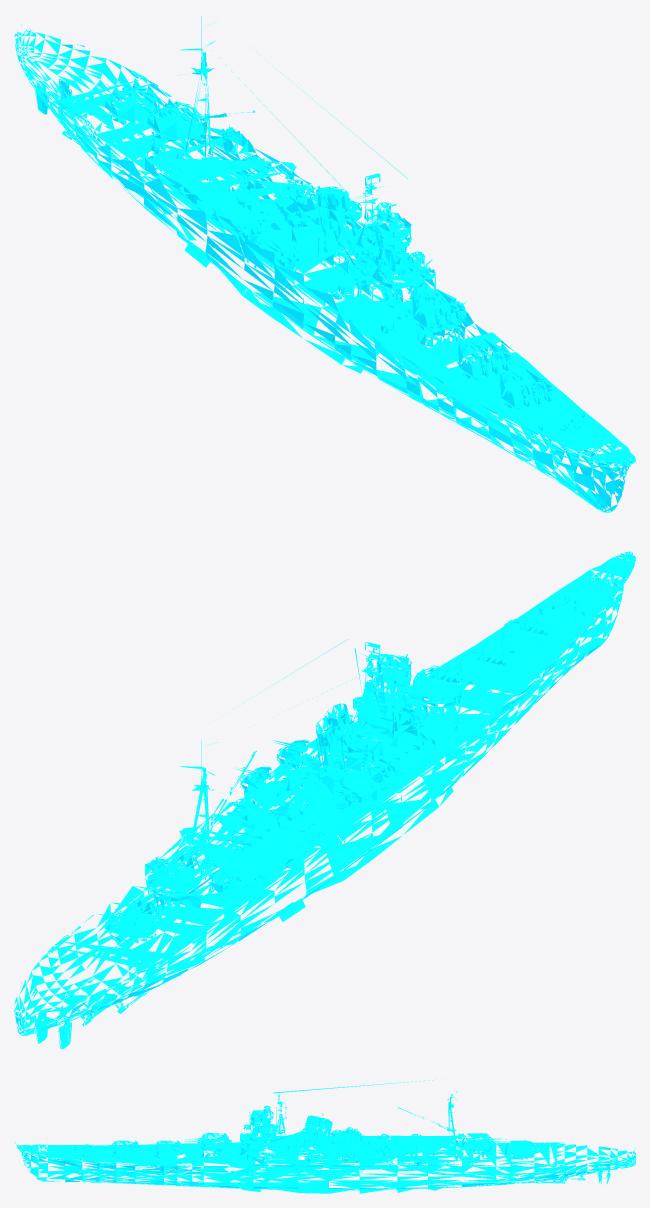
Rendered from PJSC819.glb.
The picture shows the model from 3 angles, top to bottom: view 1: azimuth 30°, elevation 25°; view 2: azimuth 150°, elevation 25°; view 3: azimuth 270°, elevation 25°; orthographic projection. The views are drawn at different scales.
Parts seen in each view (by area): view 1: hull, turret; view 2: hull, turret; view 3: hull, turret.
Part boxes in pixels (box(x1,y1,x2,y2)): hull: box(14, 16, 635, 512); turret: box(95, 81, 563, 410); hull: box(14, 551, 635, 1049); turret: box(95, 612, 553, 944); hull: box(14, 1079, 635, 1193); turret: box(96, 1128, 549, 1158).
Bounding box in the file's own units: 1.92 × 2.74 × 14.88.
